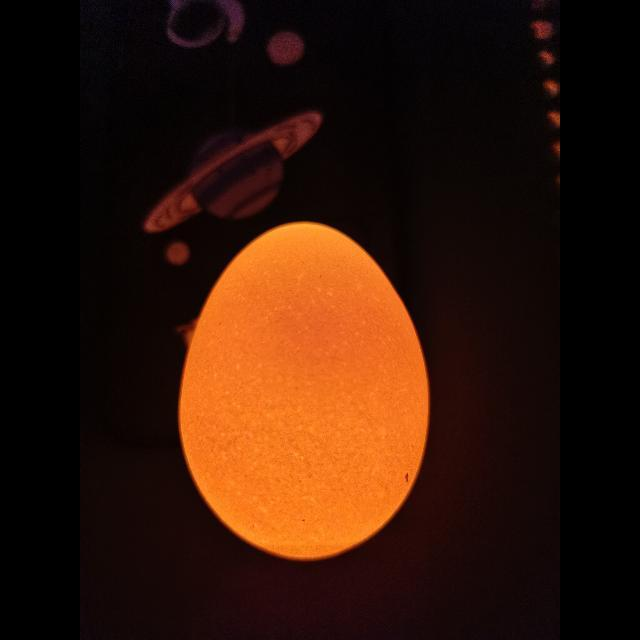AA - Premium: (179, 223, 429, 560)
